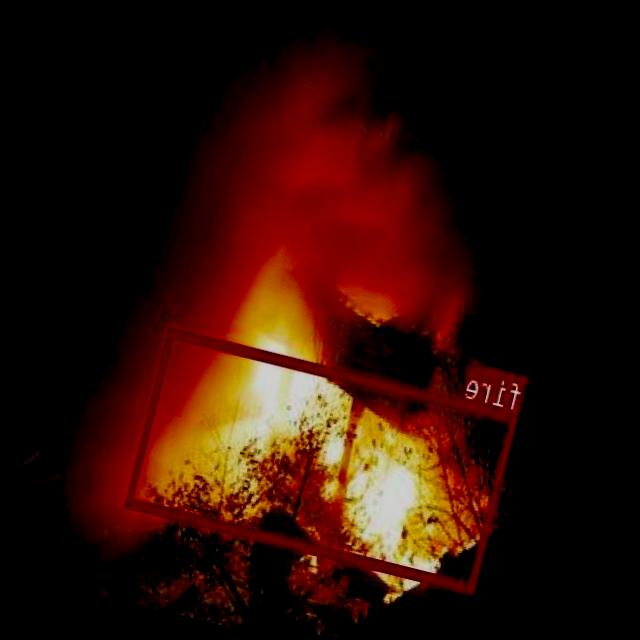fire: (126, 325, 520, 592)
